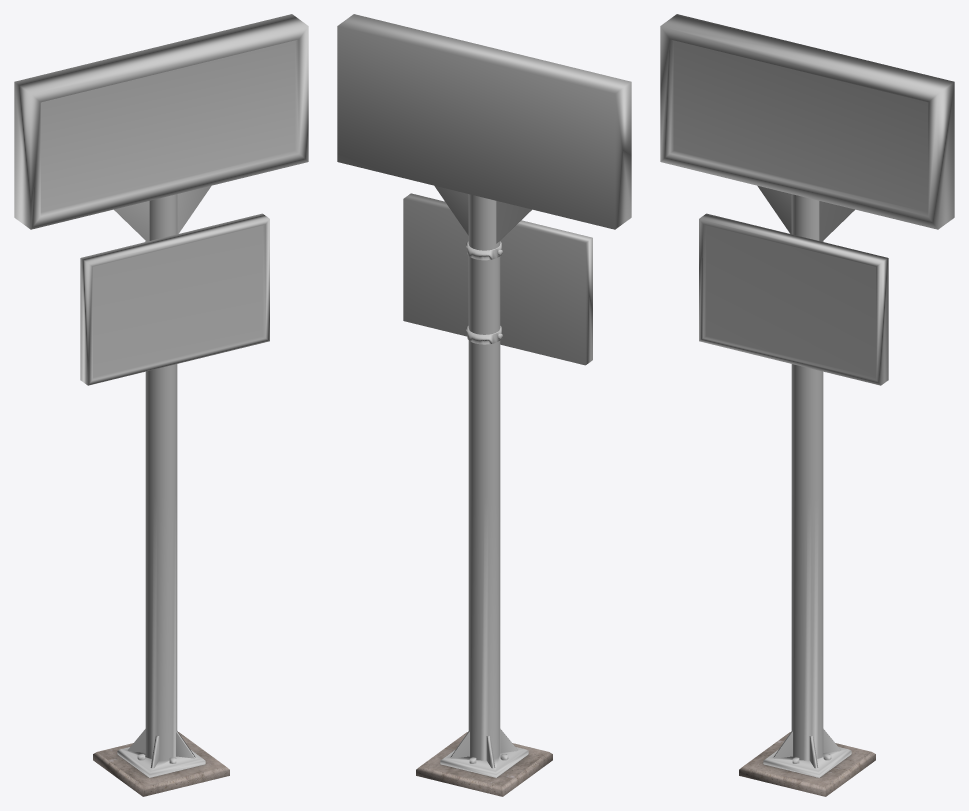
Rendered from leuchttafel_mast_01.fbx.
3 views of the same model, side by side, from view 1: azimuth 30°, elevation 25°; view 2: azimuth 150°, elevation 25°; view 3: azimuth 330°, elevation 25° (orthographic).
Visible parts, largest first — view 1: Mesh, Mesh_ncl1_1; view 2: Mesh, Mesh_ncl1_1; view 3: Mesh, Mesh_ncl1_1.
Part boxes in pixels (left/top/right/bottom): Mesh: left=14, top=14, right=308, bottom=796; Mesh_ncl1_1: left=80, top=213, right=269, bottom=385; Mesh: left=337, top=14, right=631, bottom=796; Mesh_ncl1_1: left=403, top=193, right=592, bottom=365; Mesh: left=660, top=14, right=954, bottom=796; Mesh_ncl1_1: left=699, top=213, right=888, bottom=385.
Size of the model in its own units: 264 by 649 by 82.64.
